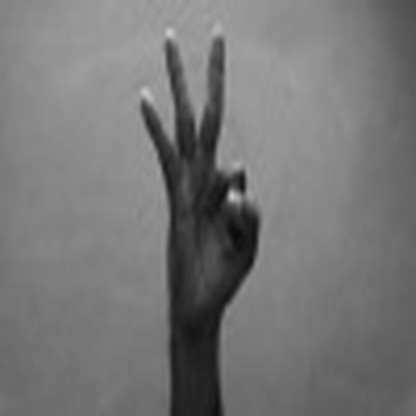f: (129, 19, 266, 326)
